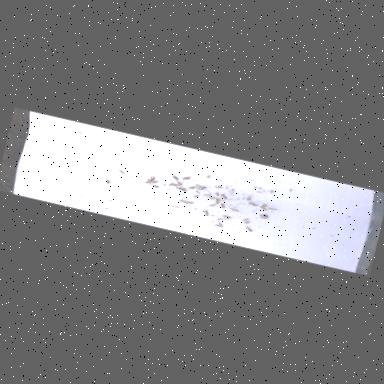pbw: (182, 199, 195, 205), (248, 202, 260, 207), (170, 204, 182, 209), (222, 214, 232, 219), (245, 226, 253, 232), (183, 174, 191, 180), (200, 185, 207, 191), (260, 203, 268, 208), (220, 194, 228, 199), (178, 188, 188, 192), (174, 182, 182, 187), (268, 207, 278, 211), (189, 185, 197, 190), (150, 176, 156, 182), (105, 180, 111, 186), (260, 207, 269, 211), (210, 202, 217, 207), (194, 193, 201, 198), (242, 217, 249, 222), (168, 182, 176, 186), (214, 200, 222, 204), (172, 176, 180, 180), (204, 211, 210, 216), (246, 196, 252, 201), (146, 179, 152, 184), (243, 220, 250, 224), (213, 192, 220, 196), (153, 180, 159, 184), (220, 204, 225, 208)
